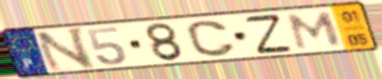5: (84, 25, 129, 67)
8: (144, 22, 185, 62)
C: (184, 19, 239, 58)
M: (286, 10, 344, 51)
N: (32, 25, 98, 74)
Z: (242, 12, 296, 56)
